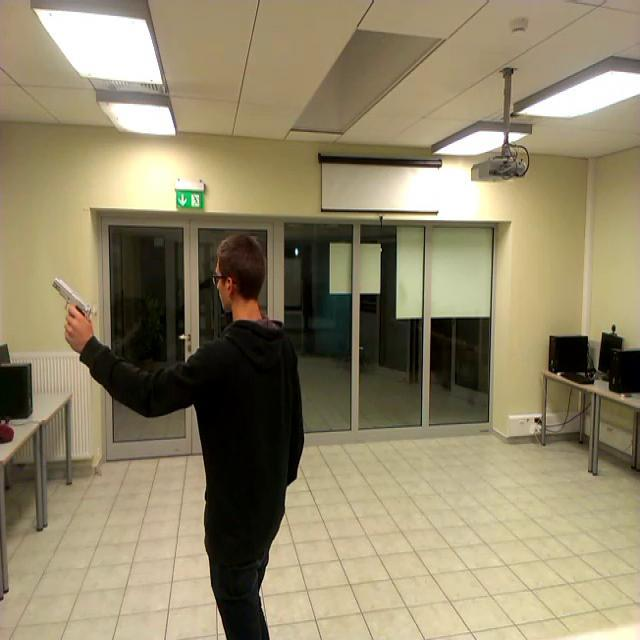Gun: (52, 276, 92, 336)
